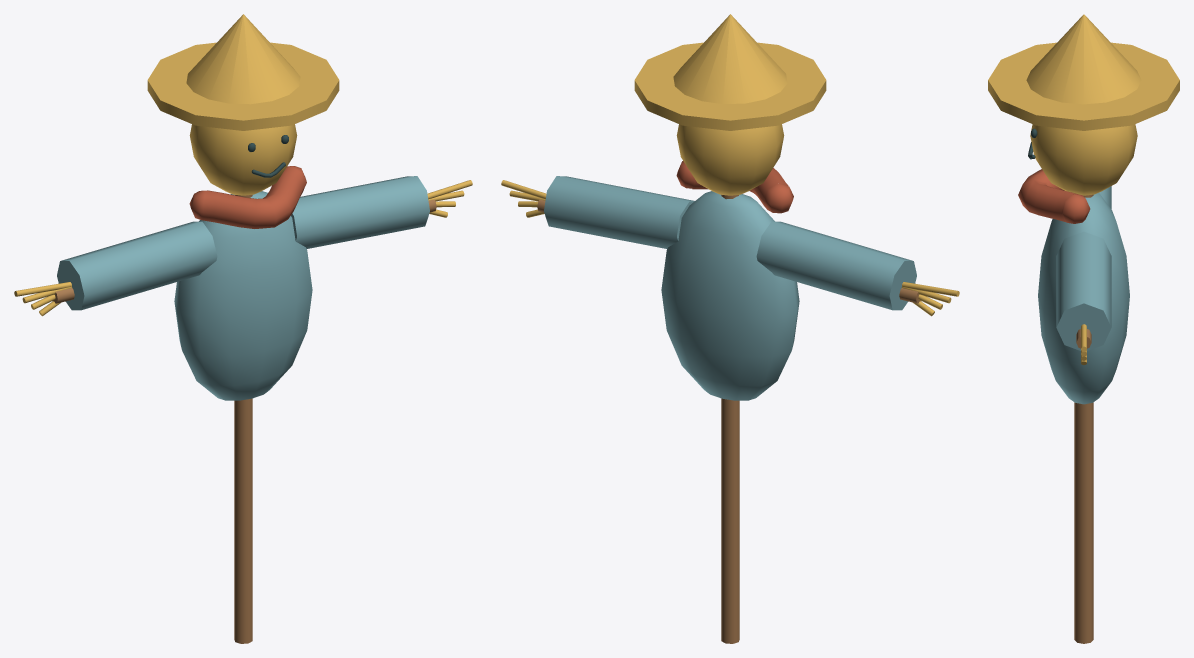
Rendered from almanac-gardens-scarecrow-056b4369__22083.glb.
3 views of the same model, side by side, from view 1: azimuth 30°, elevation 25°; view 2: azimuth 150°, elevation 25°; view 3: azimuth 270°, elevation 25° (orthographic).
Visible parts, largest first — view 1: scarecrow-blue, scarecrow-gold, scarecrow-oak, scarecrow-clay; view 2: scarecrow-blue, scarecrow-gold, scarecrow-oak, scarecrow-clay; view 3: scarecrow-gold, scarecrow-blue, scarecrow-oak, scarecrow-clay.
Part boxes in pixels (box(x1,y1,x2,y2)): scarecrow-blue: box(57, 176, 429, 400); scarecrow-gold: box(14, 14, 472, 316); scarecrow-oak: box(52, 195, 436, 643); scarecrow-clay: box(189, 166, 306, 228); scarecrow-blue: box(544, 176, 916, 400); scarecrow-gold: box(501, 14, 959, 316); scarecrow-oak: box(537, 195, 921, 643); scarecrow-clay: box(676, 161, 793, 213); scarecrow-gold: box(988, 14, 1179, 364); scarecrow-blue: box(1038, 186, 1129, 404); scarecrow-oak: box(1074, 194, 1093, 643); scarecrow-clay: box(1018, 169, 1090, 223).
Size of the model in its own units: 1.37 by 1.8 by 0.5.
